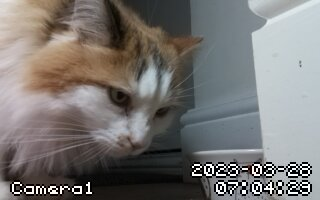clara: (2, 2, 205, 181)
